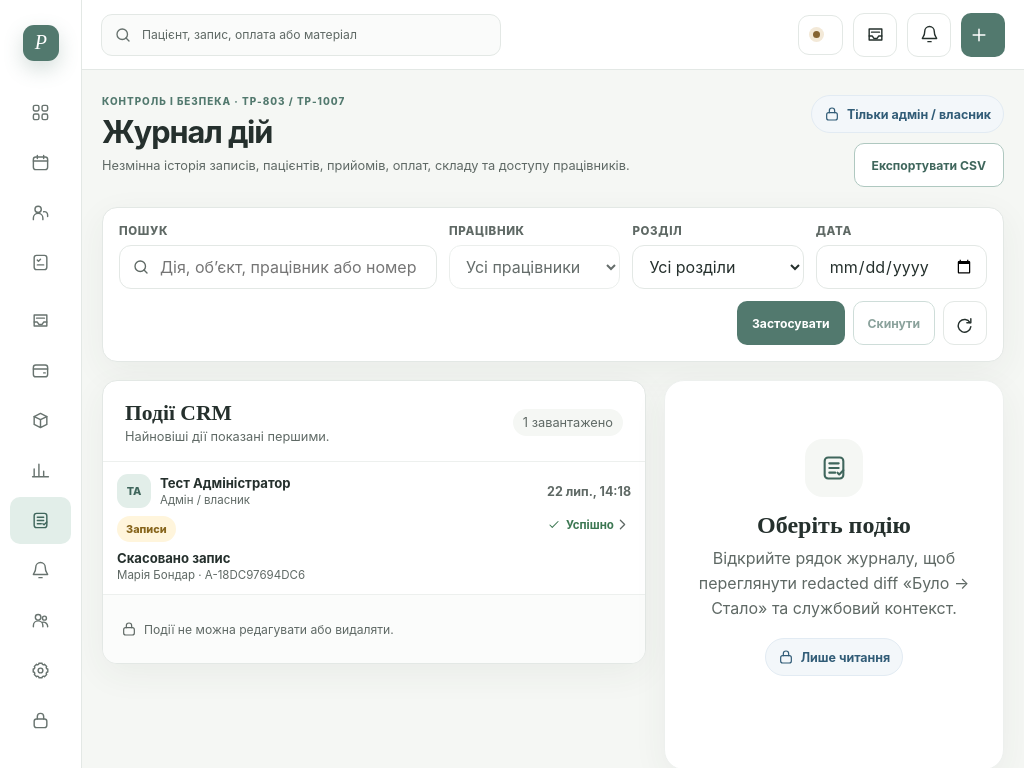
Test: admin audit journal › retries a detail failure and explains an event without changed fields
This screenshot has width=1024, height=768.
Click the button "Скасовано запис": (589, 491) [103,462,645,595]
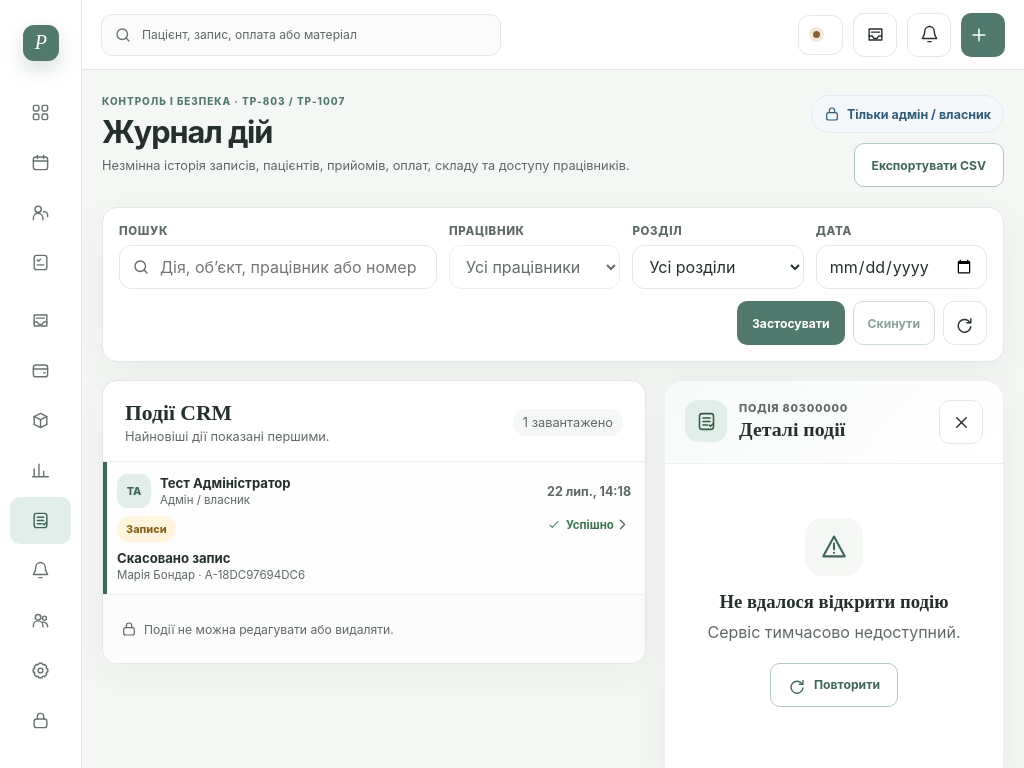
Now the message shows "Сервіс тимчасово недоступний", box [708,622,960,642]
Click the button "Повторити": (834, 685) [770,663,898,707]
(page scrolled)
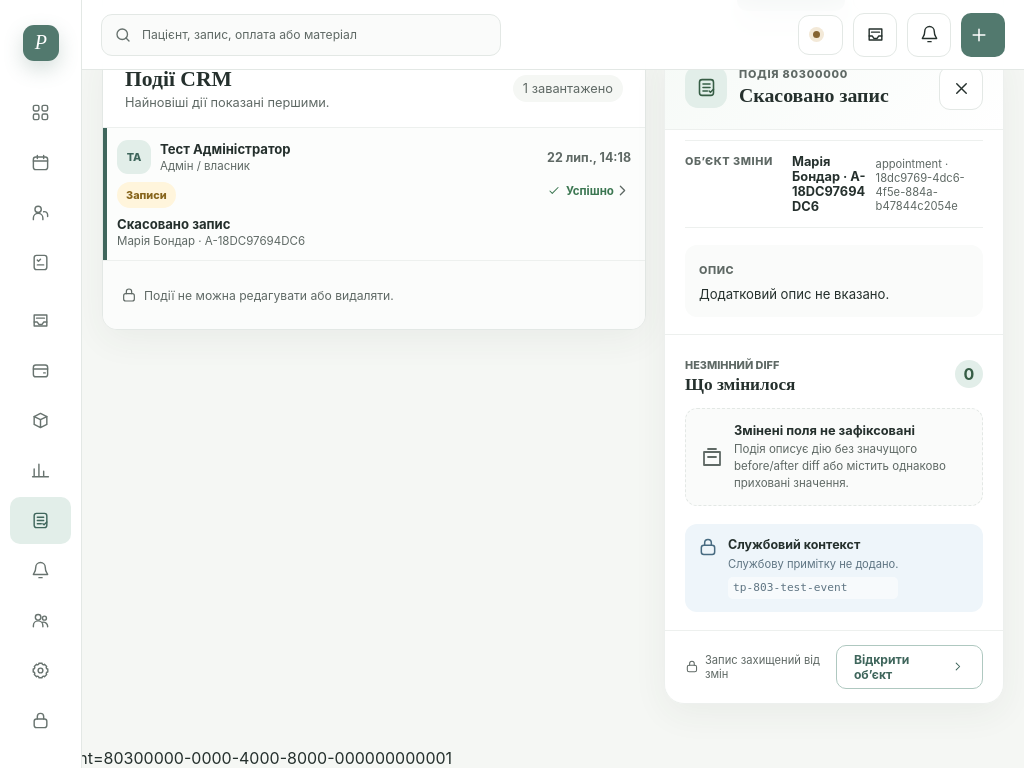
Now the text "Змінені поля не зафіксовані" is shown, box [734,423,915,438]
Now the text "Додатковий опис не вказано." is shown, box [699,286,889,302]
Now the text "Службову примітку не додано." is shown, box [728,556,898,573]
